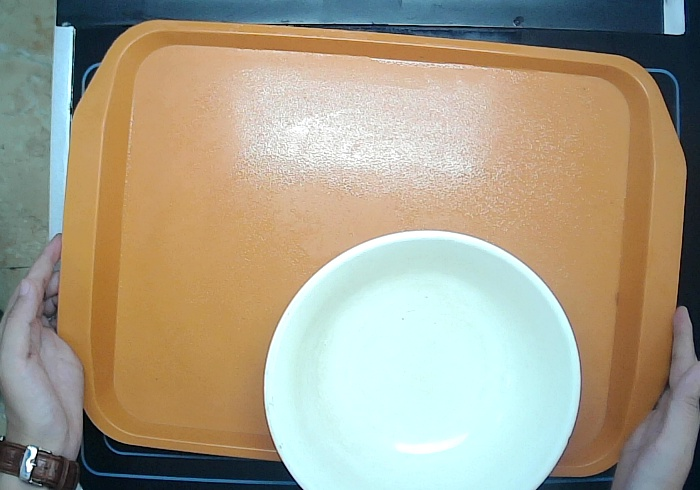ZNLD-Da_Tang_Wan: (264, 226, 587, 490)
